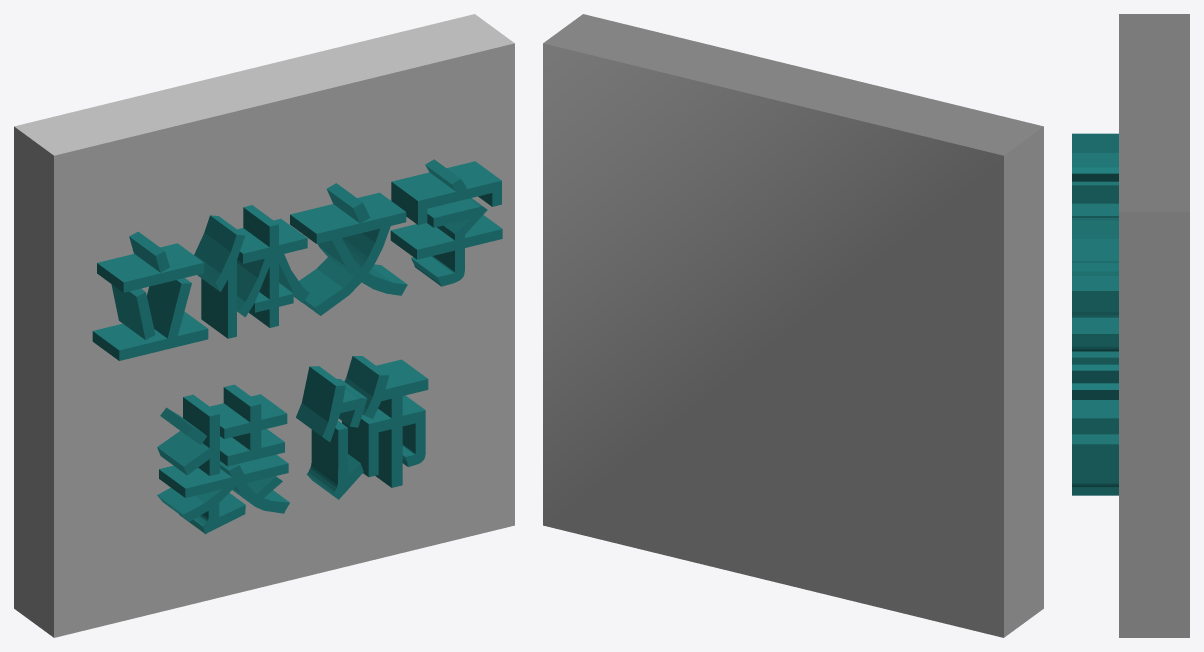
Rendered from (套件)立体文字装饰fbx.fbx.
3 views of the same model, side by side, from view 1: azimuth 30°, elevation 25°; view 2: azimuth 150°, elevation 25°; view 3: azimuth 270°, elevation 25° (orthographic). The views are drawn at different scales.
Visible parts, largest first — view 1: (套件)立体文字装饰_外壳, (套件)立体文字装饰_喷漆; view 2: (套件)立体文字装饰_外壳; view 3: (套件)立体文字装饰_外壳, (套件)立体文字装饰_喷漆.
Part boxes in pixels (x1=…): (套件)立体文字装饰_外壳: x1=14, y1=14, x2=514, y2=637; (套件)立体文字装饰_喷漆: x1=92, y1=159, x2=502, y2=534; (套件)立体文字装饰_外壳: x1=543, y1=14, x2=1043, y2=637; (套件)立体文字装饰_外壳: x1=1119, y1=14, x2=1189, y2=637; (套件)立体文字装饰_喷漆: x1=1072, y1=133, x2=1118, y2=495.
Size of the model in its own units: 0.5 by 0.5 by 0.1253.
